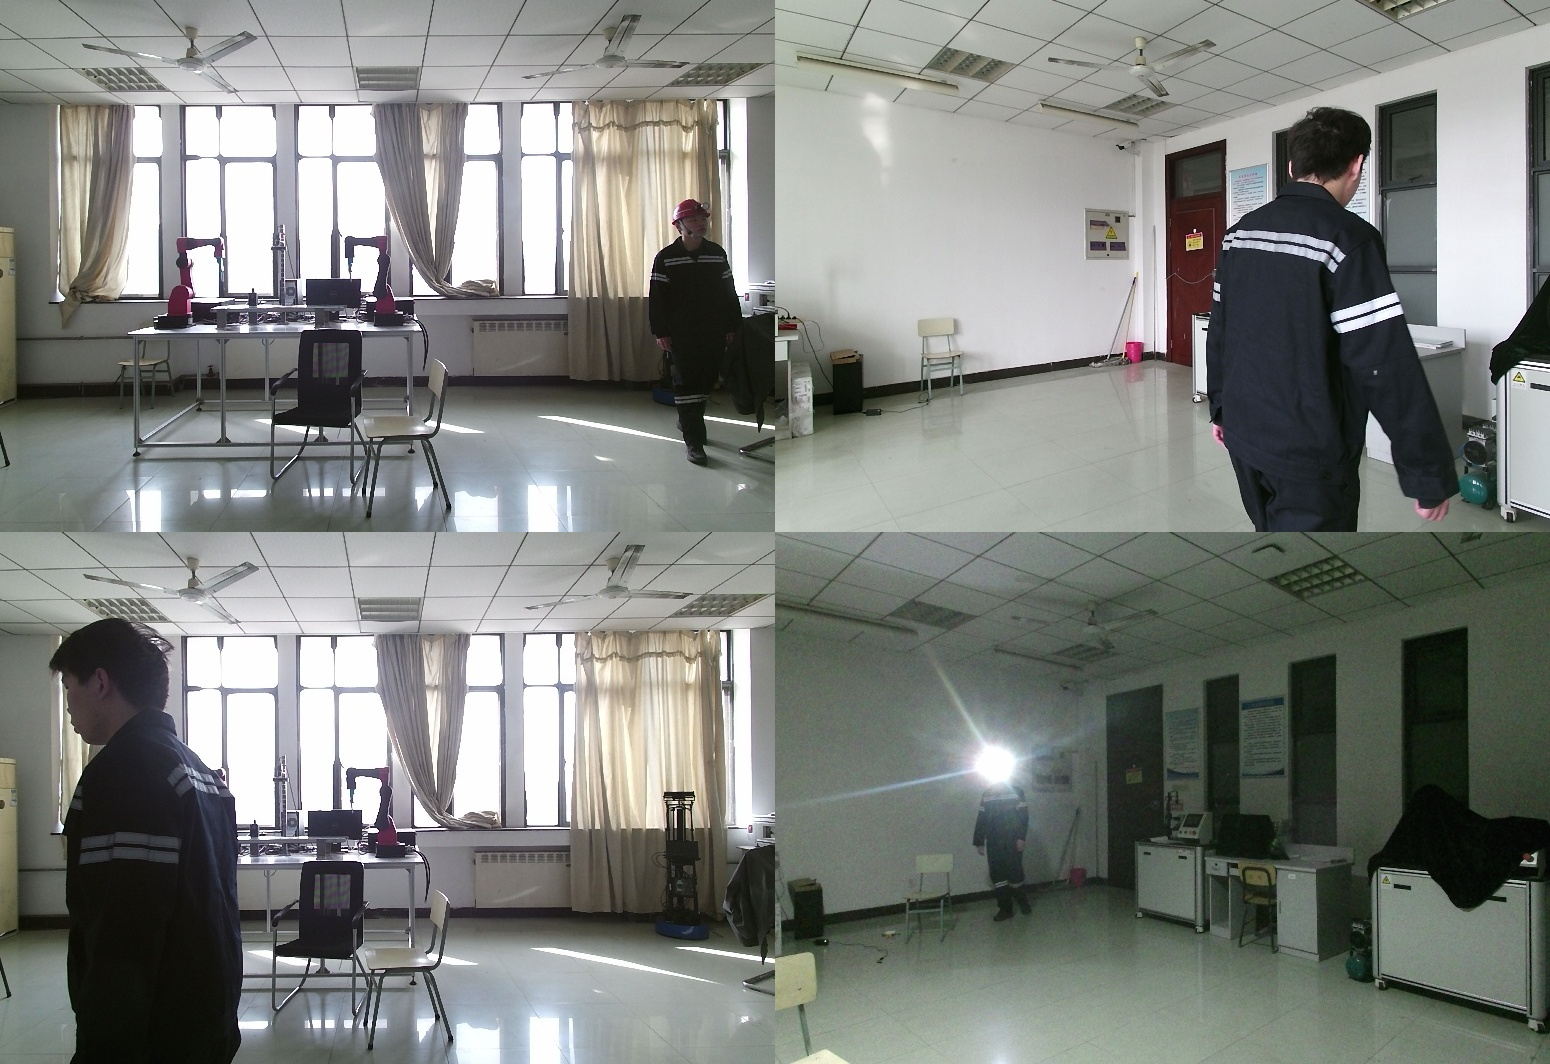person: (1215, 106, 1489, 532), (44, 617, 254, 1064), (648, 198, 742, 463), (972, 761, 1034, 930)
